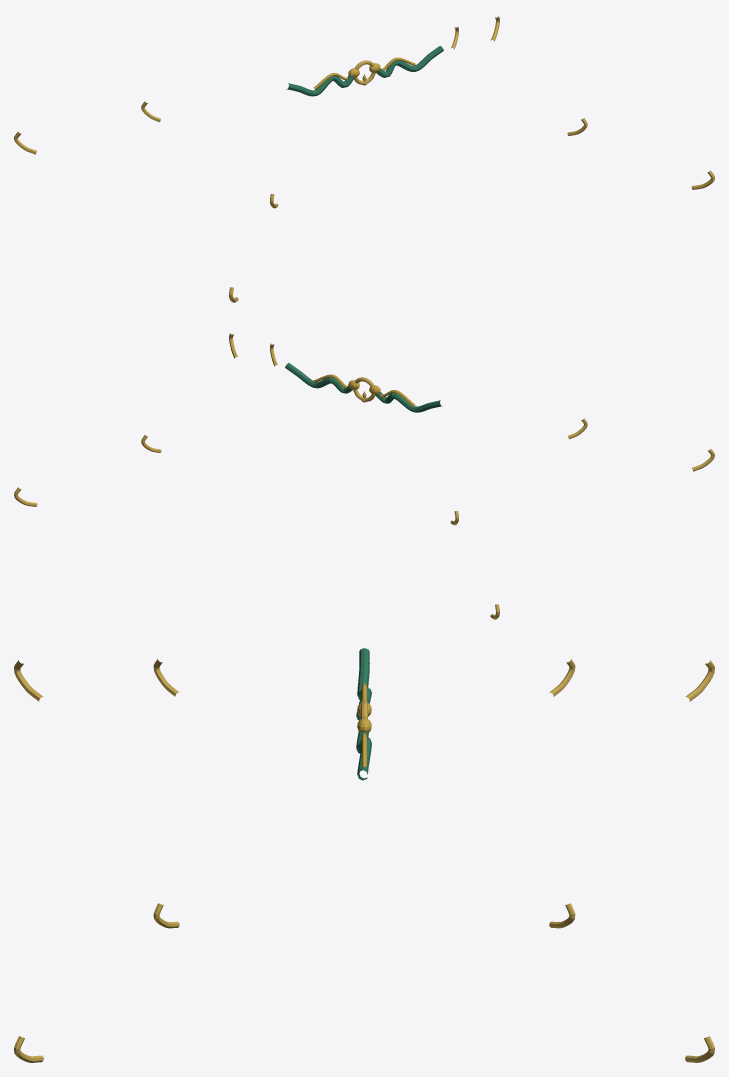
The model's file is baoquoc-hero.glb.
The picture shows the model from 3 angles, top to bottom: view 1: azimuth 30°, elevation 25°; view 2: azimuth 150°, elevation 25°; view 3: azimuth 270°, elevation 25°; orthographic projection. The views are drawn at different scales.
Parts seen in each view (by area): view 1: baoquoc_hero_ornaments; view 2: baoquoc_hero_ornaments; view 3: baoquoc_hero_ornaments.
Part boxes in pixels (<box>): baoquoc_hero_ornaments: <box>14,16,714,302</box>; baoquoc_hero_ornaments: <box>14,333,714,619</box>; baoquoc_hero_ornaments: <box>14,648,714,1062</box>.
Bounding box in the file's own units: 21.3 × 4.66 × 16.5.
